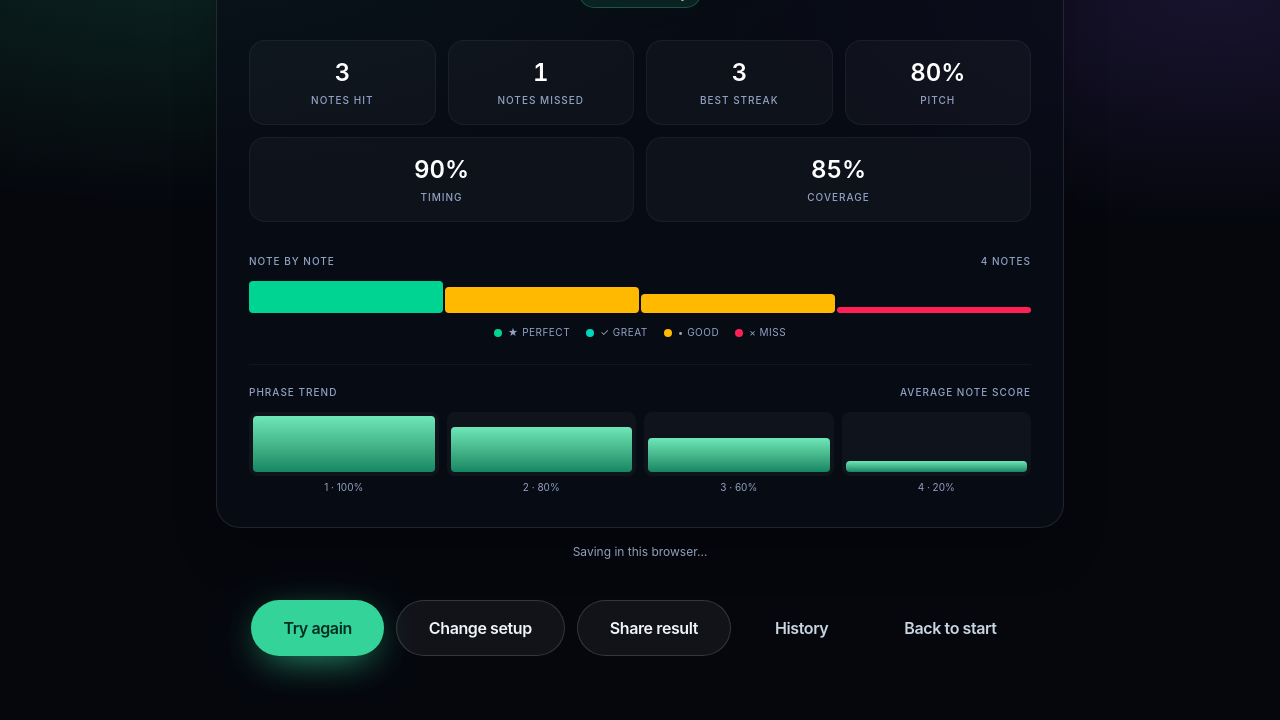
Test case: ResultsScreen › shares via the clipboard fallback
The image size is (1280, 720).
(page scrolled)
Click the button "Share result" at x=654, y=628, box [577,600,731,656]
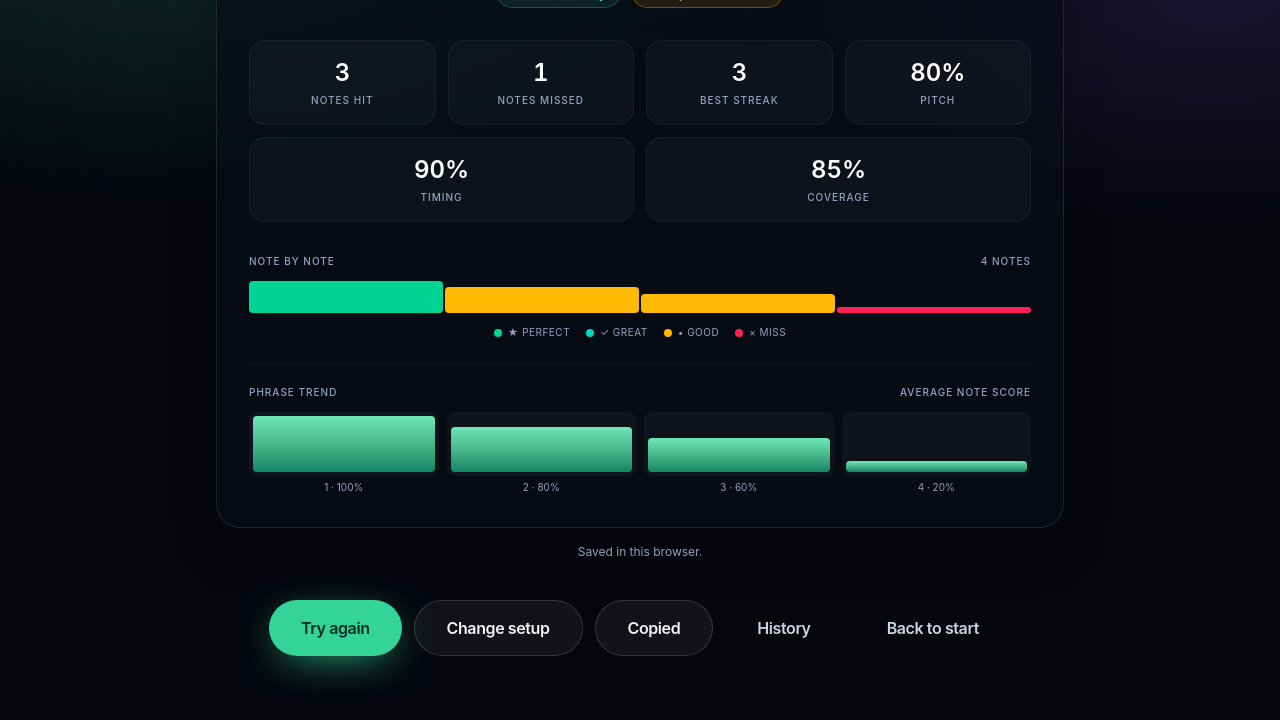
Expected: the button "Copied" is shown, [594,600,713,656]
